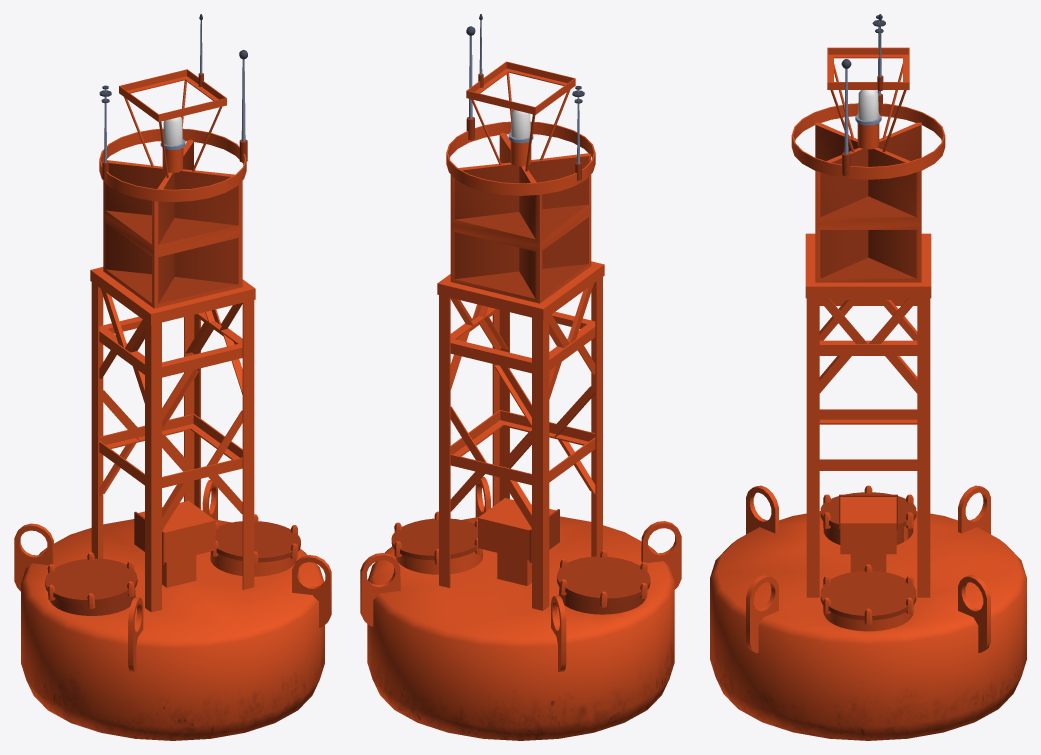
Rendered from Buoy02.fbx.
3 views of the same model, side by side, from view 1: azimuth 30°, elevation 25°; view 2: azimuth 150°, elevation 25°; view 3: azimuth 270°, elevation 25° (orthographic). The views are drawn at different scales.
Parts seen in each view (by area): view 1: Buoy02; view 2: Buoy02; view 3: Buoy02.
Part boxes in pixels (x1,y1,x2,y2): Buoy02: (14, 14, 331, 740); Buoy02: (360, 14, 681, 740); Buoy02: (710, 14, 1026, 740).
Bounding box in the file's own units: 1.59 × 3.81 × 1.59.
